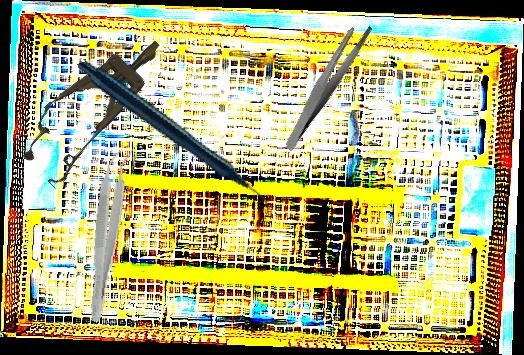Dressing Forceps: (257, 17, 396, 152)
Handpiece: (77, 22, 270, 254)
Speculum: (8, 18, 183, 192)
Tissue Forceps: (83, 146, 135, 324)
